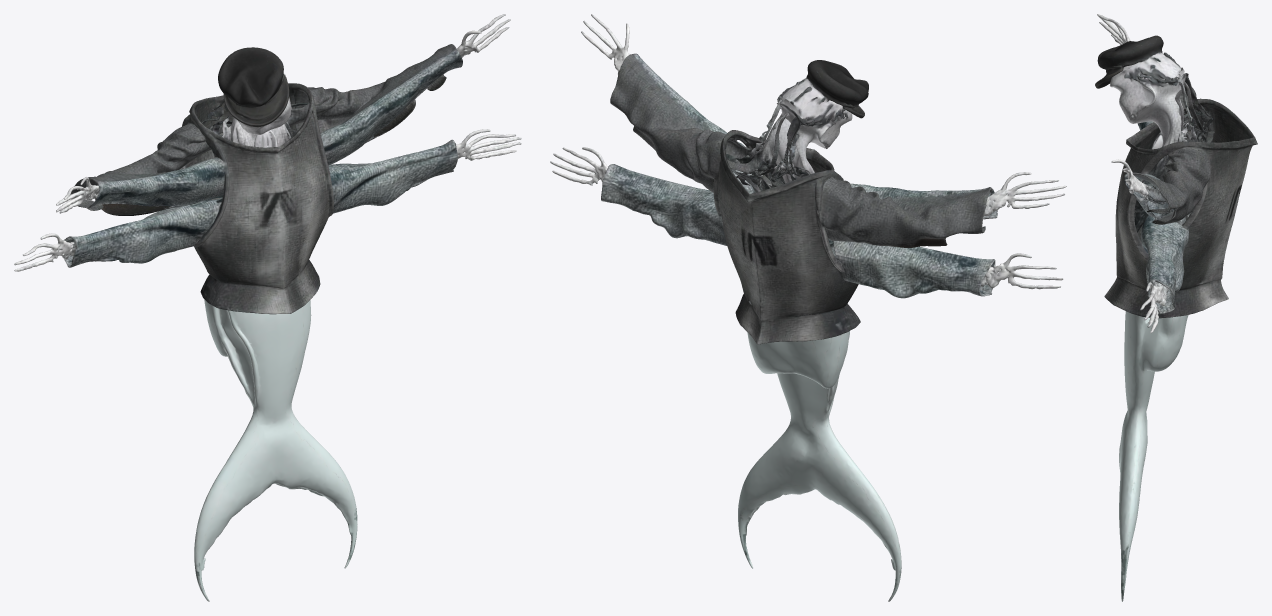
The model's file is SkellyShelly.glb.
The picture shows the model from 3 angles, left to right: view 1: azimuth 30°, elevation 25°; view 2: azimuth 150°, elevation 25°; view 3: azimuth 270°, elevation 25°; orthographic projection.
Parts seen in each view (by area): view 1: world; view 2: world; view 3: world.
Part boxes in pixels (x1,y1,x2,y2): world: [14, 14, 521, 601]; world: [550, 14, 1066, 601]; world: [1095, 14, 1257, 601].
Bounding box in the file's own units: 0.9995 × 0.9933 × 0.2795.
1 material, 1 textured.
